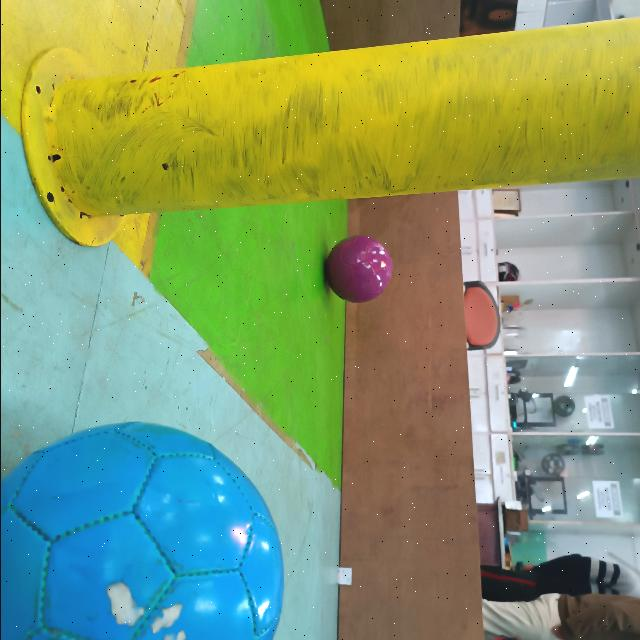B: (0, 418, 288, 640)
P: (320, 234, 396, 306)
